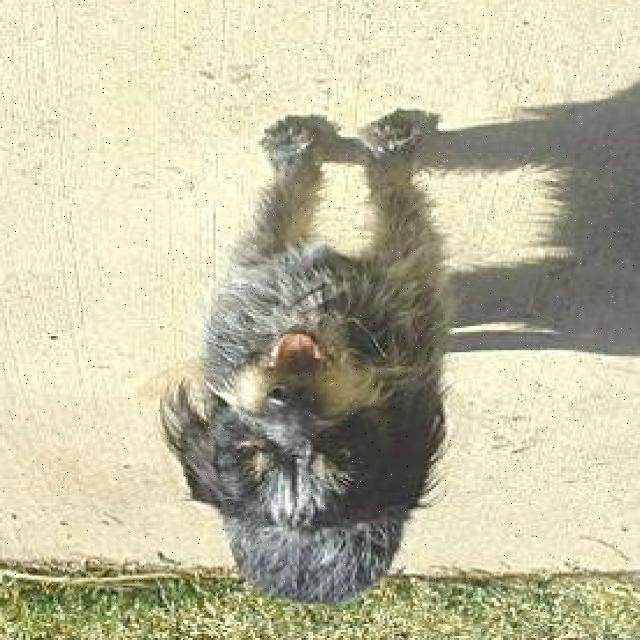Dog: (150, 294, 447, 560)
